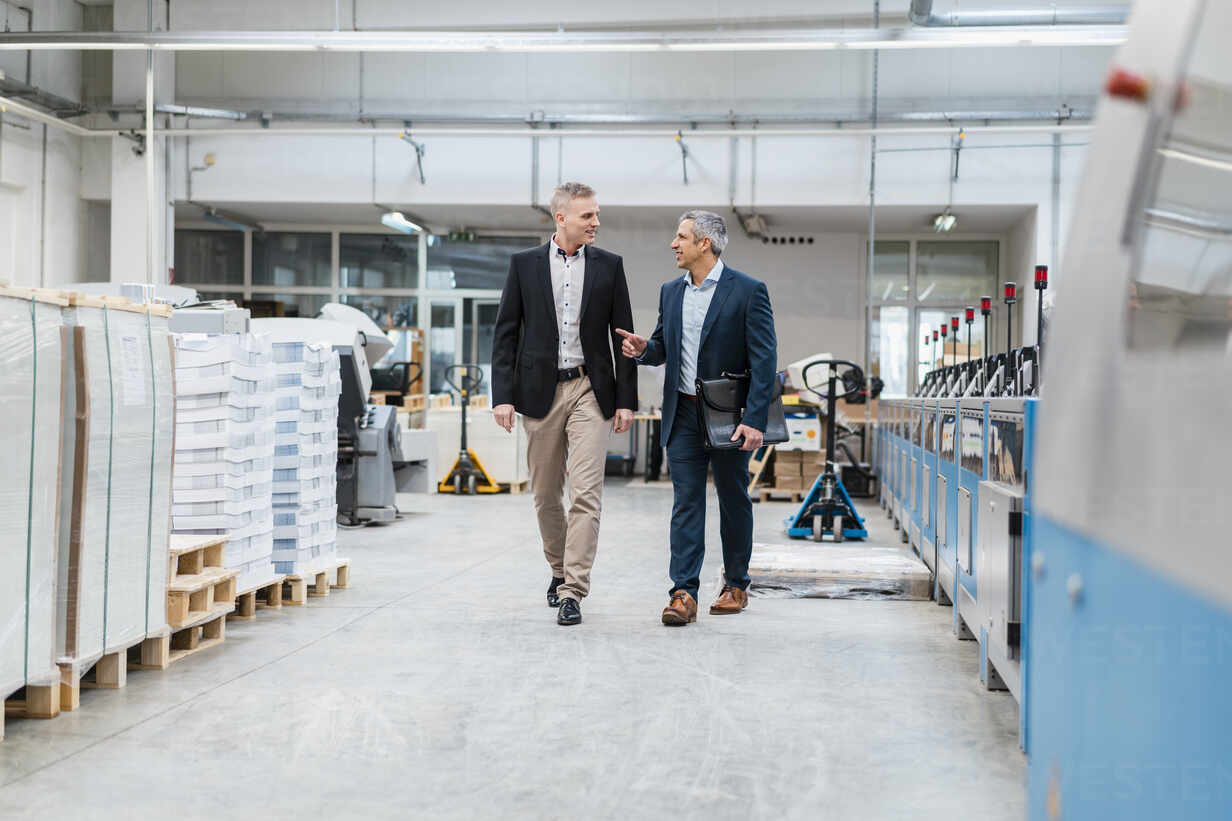person: (494, 185, 640, 627), (623, 213, 777, 627)
